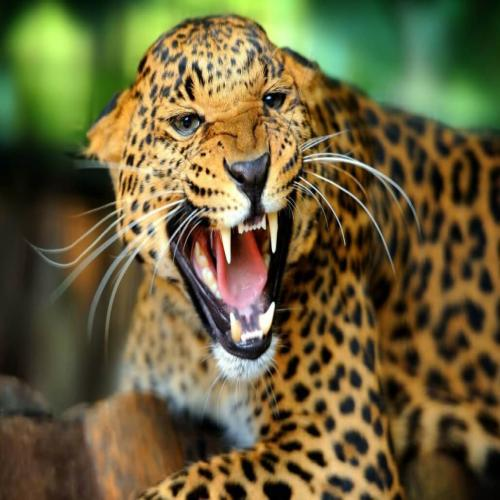jaguar_not-endangered: (82, 13, 500, 435)
